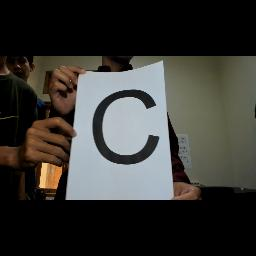c: (88, 86, 162, 170)
